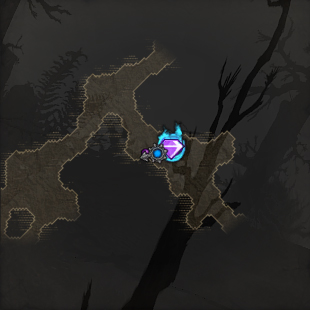Urushi: (158, 120, 188, 162)
